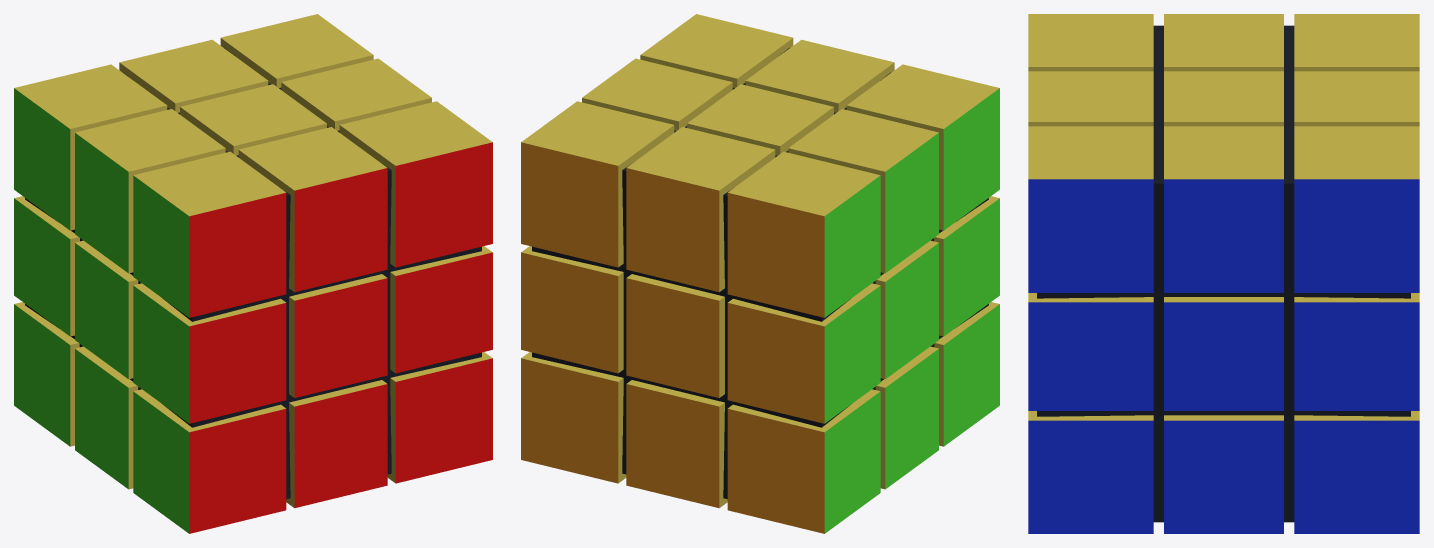
File: cubikRubik.fbx
3 views of the same model, side by side, from view 1: azimuth 30°, elevation 25°; view 2: azimuth 150°, elevation 25°; view 3: azimuth 270°, elevation 25° (orthographic). The views are drawn at different scales.
Parts seen in each view (by area): view 1: Cube.053; view 2: Cube.053; view 3: Cube.053.
Part boxes in pixels (x1,y1,x2,y2): Cube.053: [14, 14, 492, 533]; Cube.053: [521, 14, 999, 533]; Cube.053: [1028, 14, 1419, 533].
Size of the model in its own units: 6.61 by 6.61 by 6.61.
